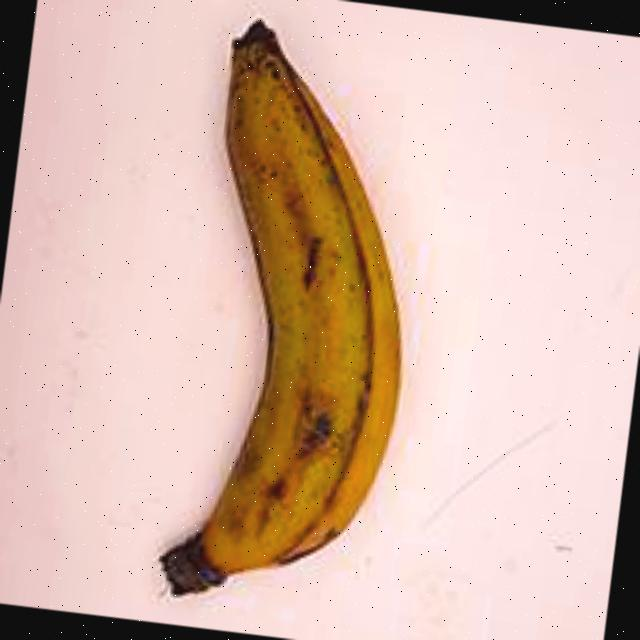Overripe: (90, 0, 467, 640)
